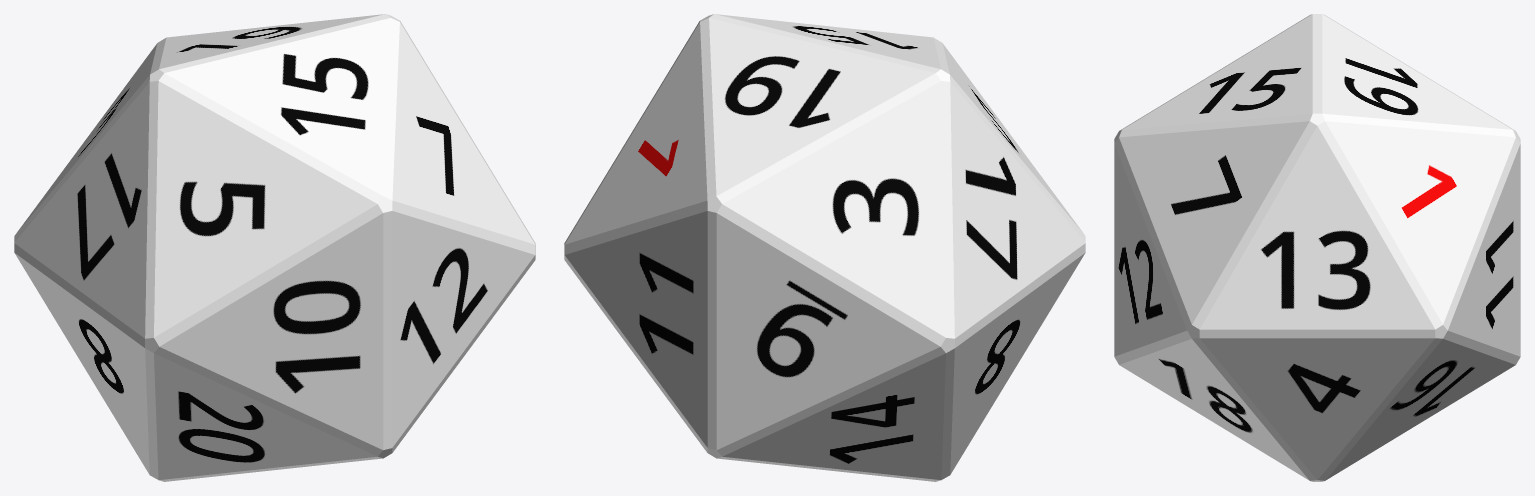
Rendered from Dice20.glb.
3 views of the same model, side by side, from view 1: azimuth 30°, elevation 25°; view 2: azimuth 150°, elevation 25°; view 3: azimuth 270°, elevation 25° (orthographic). The views are drawn at different scales.
Visible parts, largest first — view 1: Icosphere; view 2: Icosphere; view 3: Icosphere.
Boxes of the visible parts, left/top/right/bottom form: Icosphere: left=14, top=14, right=535, bottom=481; Icosphere: left=564, top=14, right=1085, bottom=481; Icosphere: left=1114, top=14, right=1520, bottom=481.
Size of the model in its own units: 0.3208 by 0.3208 by 0.3208.
1 material, 1 textured.
